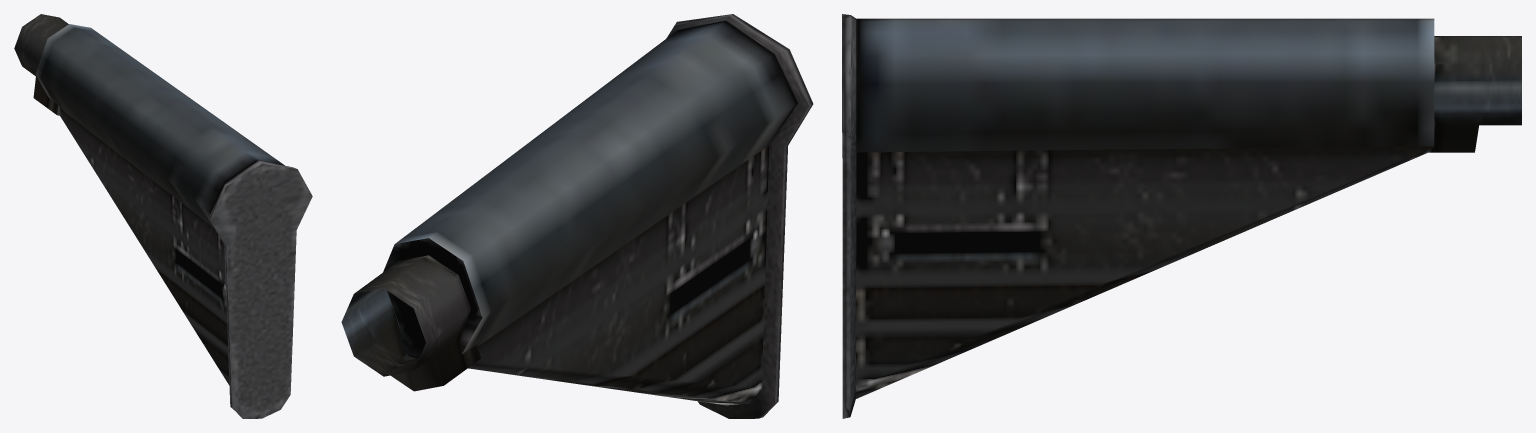
Rendered from M4_Stock.fbx.
3 renders of one model, left to right at view 1: azimuth 30°, elevation 25°; view 2: azimuth 150°, elevation 25°; view 3: azimuth 270°, elevation 25°, orthographic. The views are drawn at different scales.
Visible parts, largest first — view 1: M4_Stock.002; view 2: M4_Stock.002; view 3: M4_Stock.002.
Part boxes in pixels (left/top/right/bottom): M4_Stock.002: left=14, top=14, right=312, bottom=418; M4_Stock.002: left=341, top=14, right=813, bottom=418; M4_Stock.002: left=842, top=14, right=1521, bottom=418.
Size of the model in its own units: 0.0302 by 0.1133 by 0.0725.
